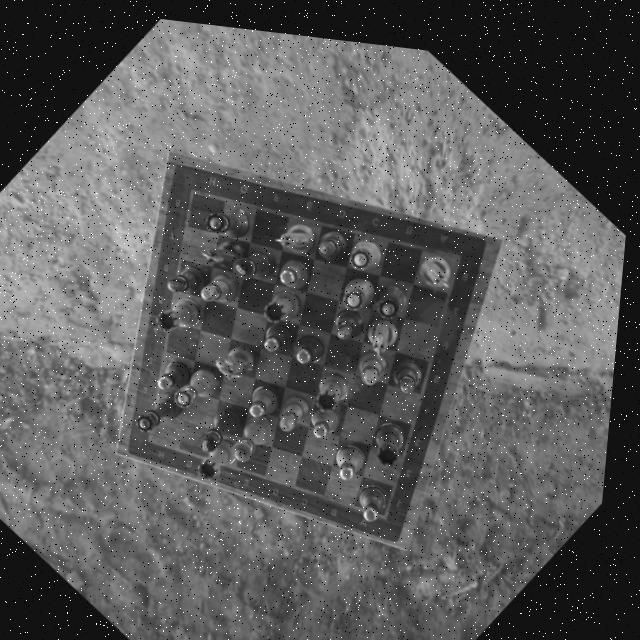chessboard: (157, 185, 463, 505)
